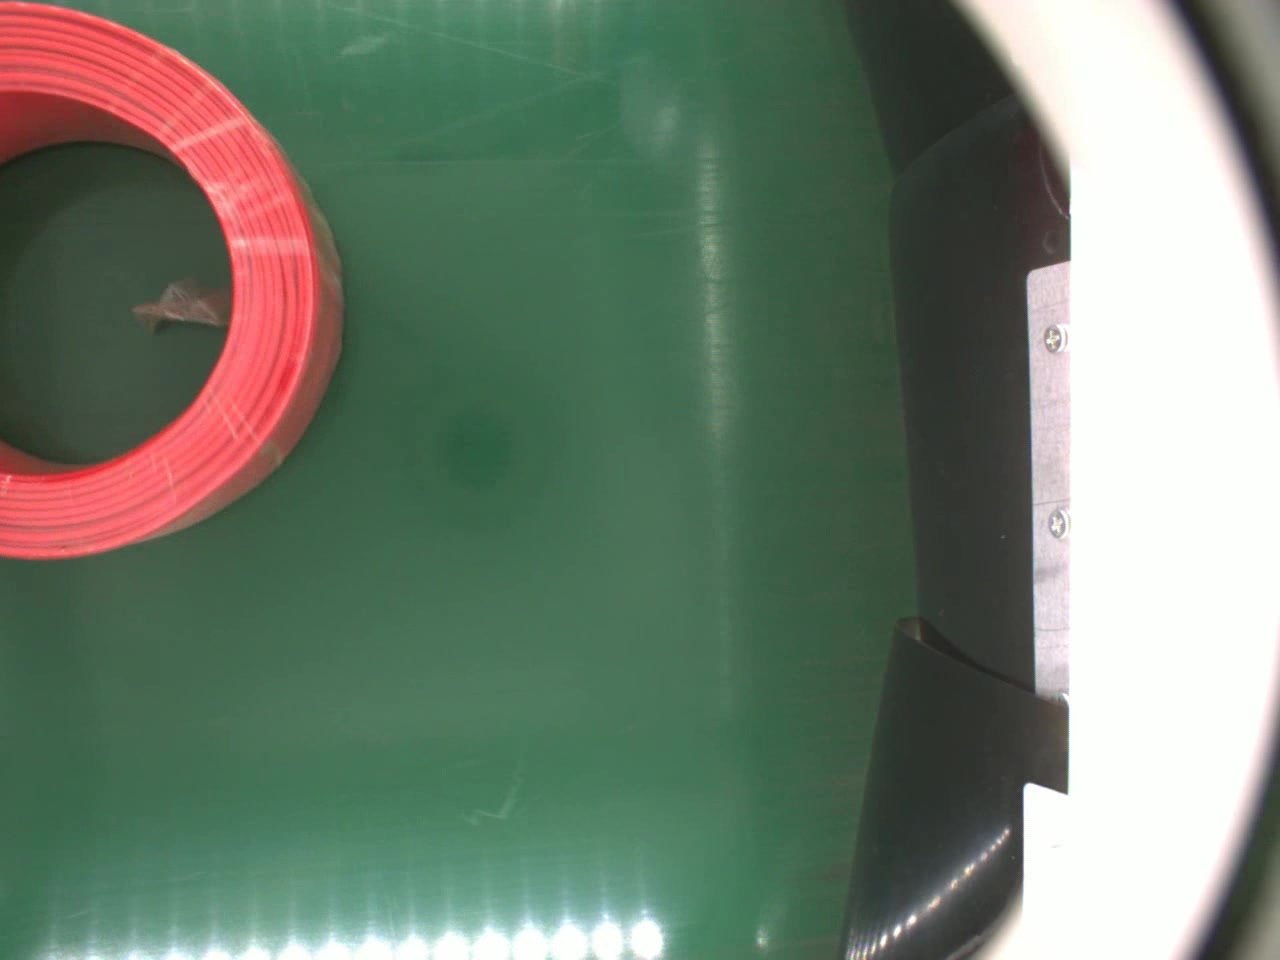red: (0, 3, 347, 563)
